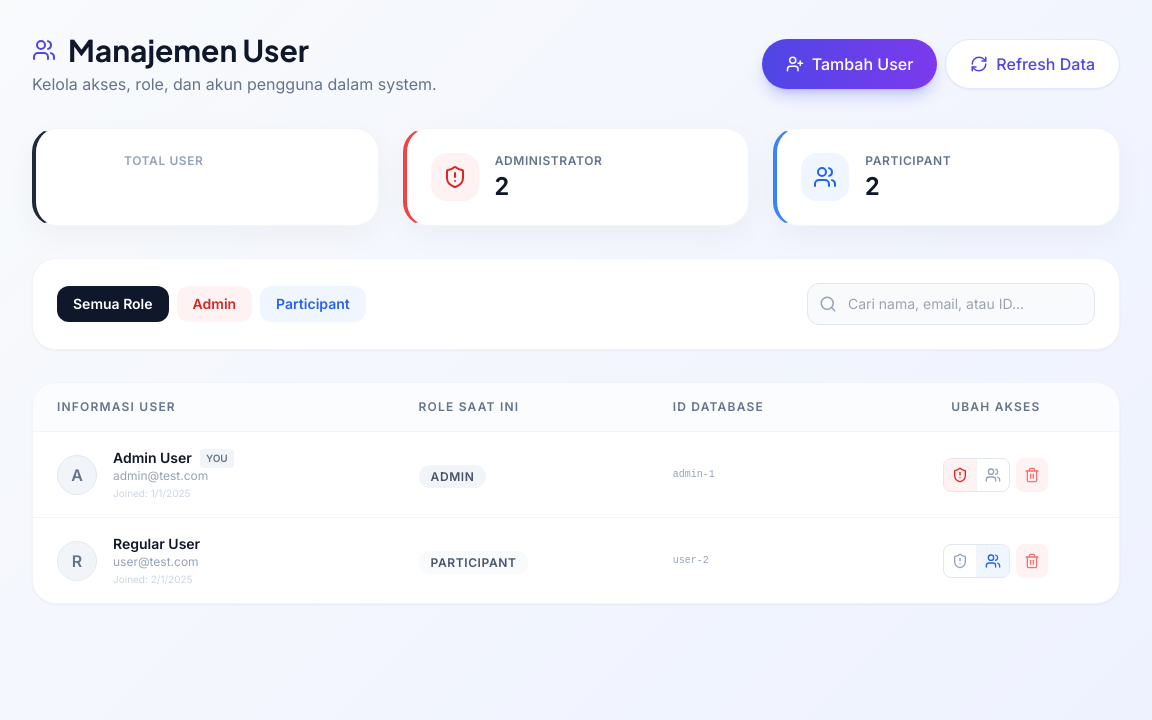
UserManagement Page › closes role update modal via X button
The width and height of the screenshot is (1152, 720).
Click the button titled "Set as Admin" in the row of "Regular User".
click(961, 560)  # box [944,544,977,576]
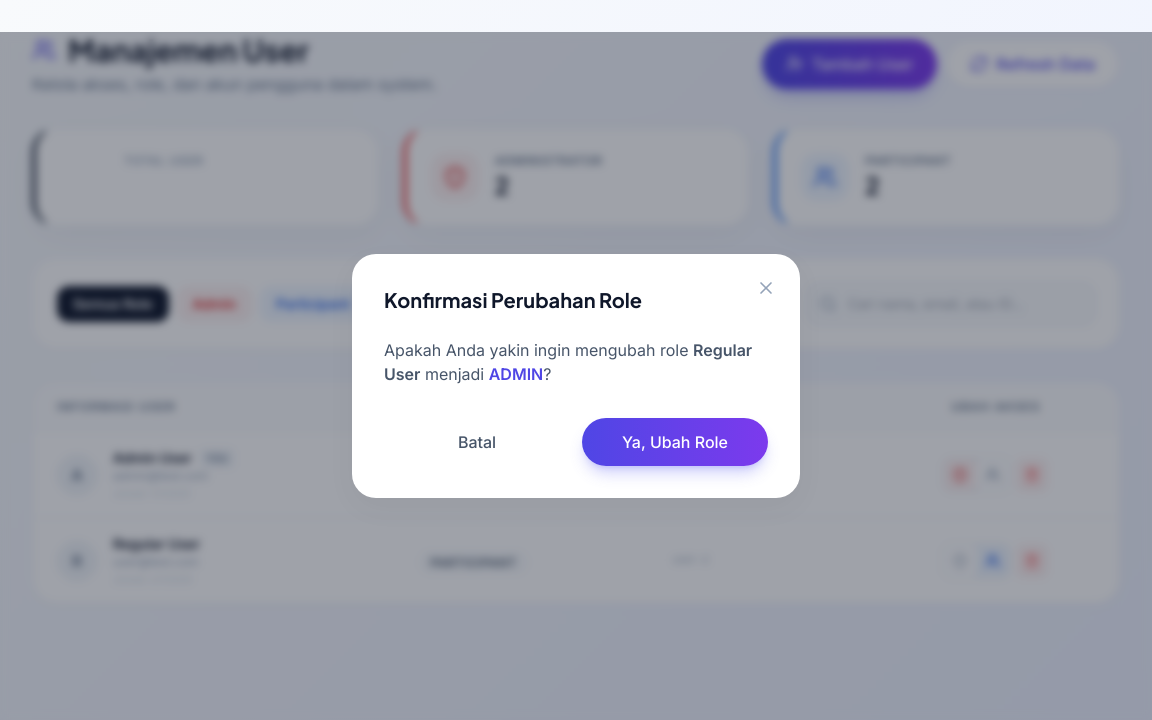
Click the 2nd button.
click(766, 288)  # box [748,270,784,306]
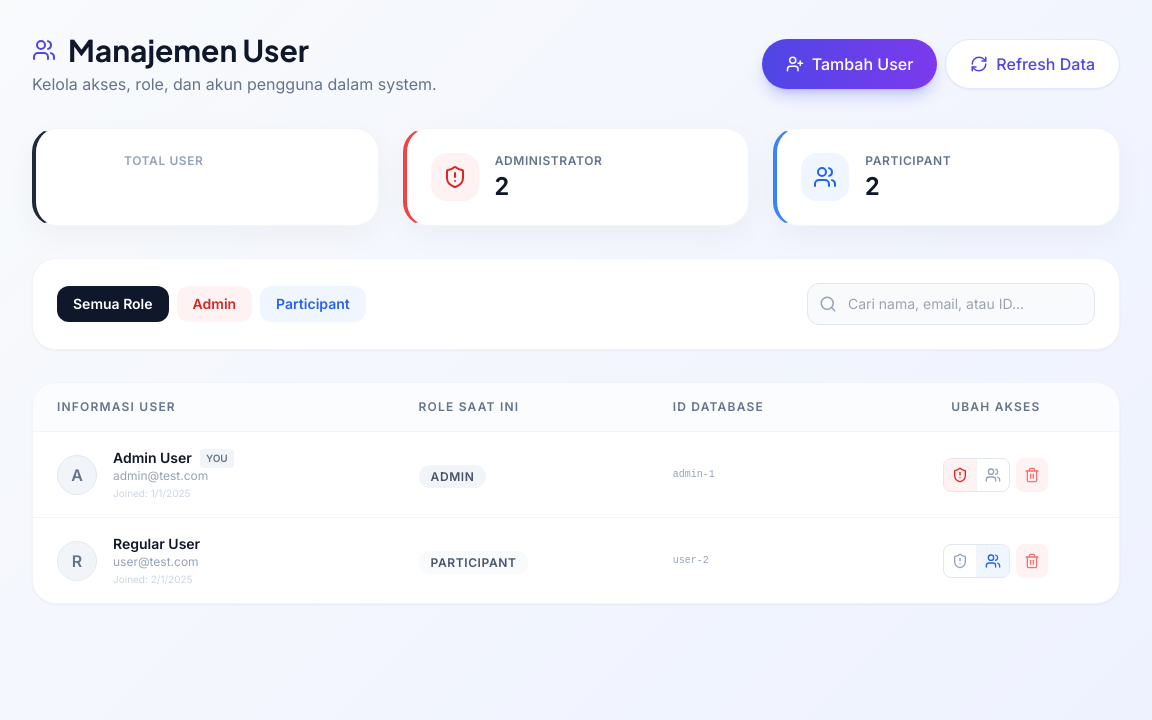
Expected: the heading "Konfirmasi Perubahan Role" is gone
